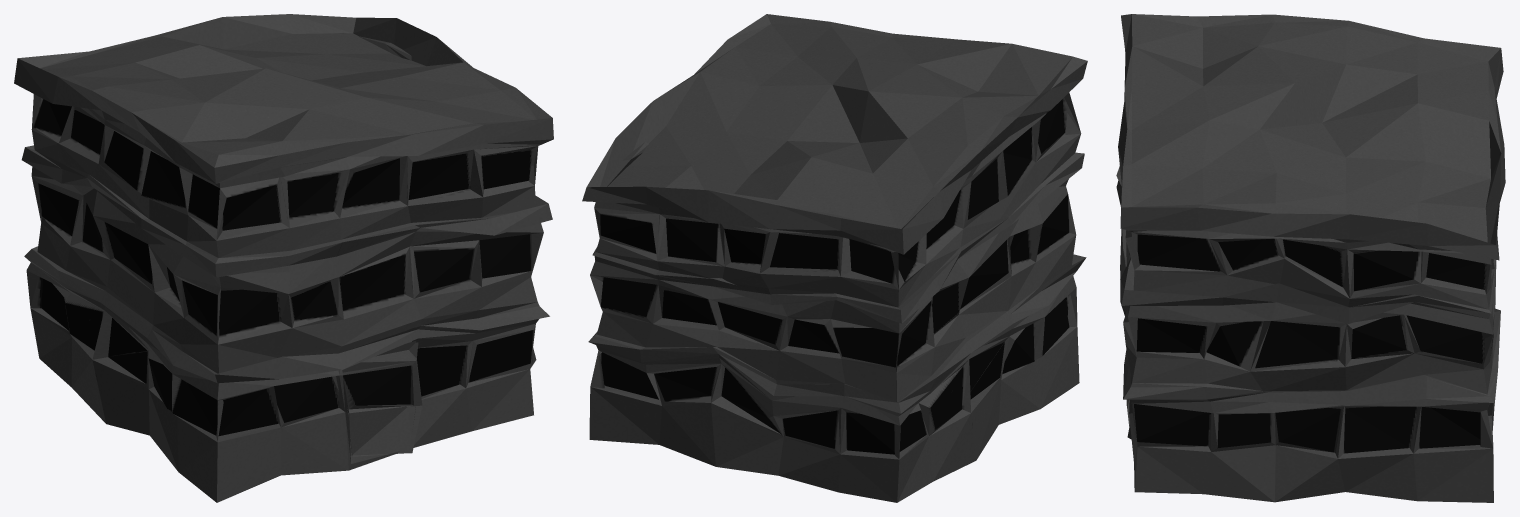
The model's file is House2.fbx.
The picture shows the model from 3 angles, left to right: view 1: azimuth 30°, elevation 25°; view 2: azimuth 150°, elevation 25°; view 3: azimuth 270°, elevation 25°; orthographic projection. The views are drawn at different scales.
Visible parts, largest first — view 1: Cube; view 2: Cube; view 3: Cube.
Boxes of the visible parts, x1,y1,x2,y2 form: Cube: (14, 14, 553, 502); Cube: (582, 14, 1087, 502); Cube: (1116, 14, 1505, 502).
Bounding box in the file's own units: 1274 × 1223 × 1275.
